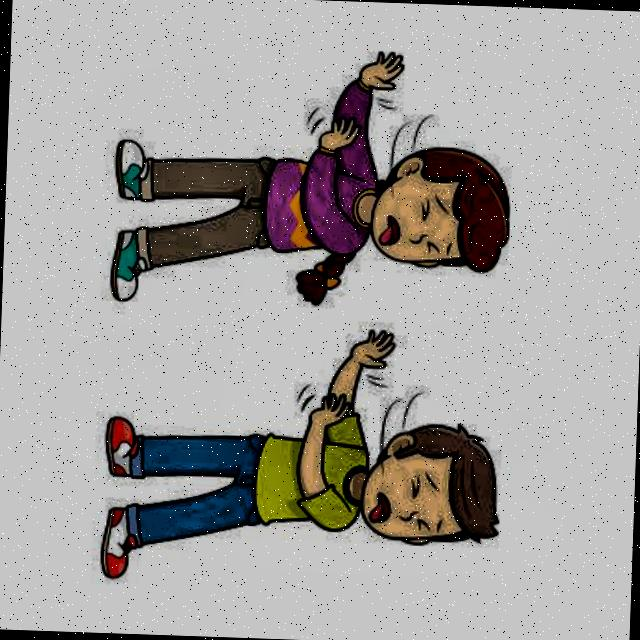disgust: (358, 125, 531, 295), (352, 401, 518, 567)
